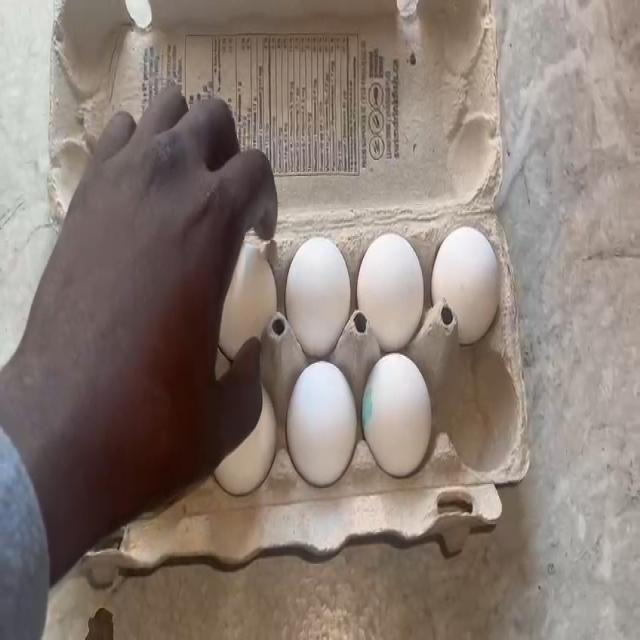Egg: (282, 215, 354, 338), (440, 215, 502, 339), (370, 356, 426, 462), (292, 368, 350, 468), (364, 212, 413, 330), (230, 260, 274, 334), (240, 426, 275, 486)
